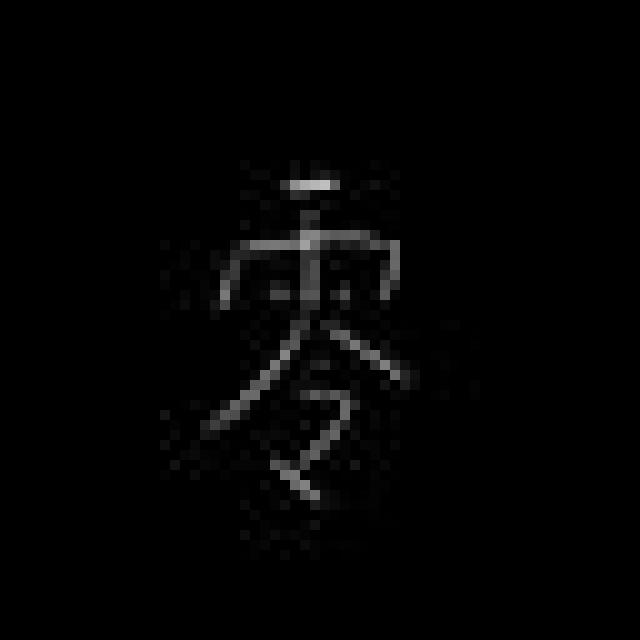0 -zero-: (194, 163, 419, 510)
